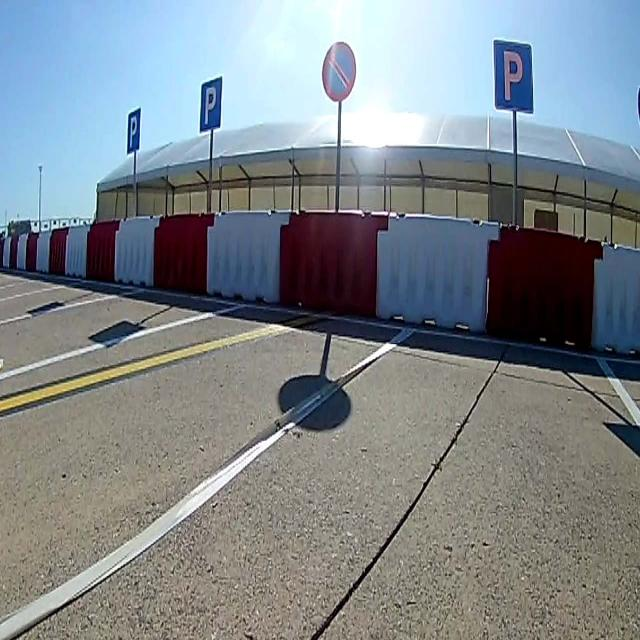park: (494, 36, 534, 112), (200, 76, 222, 132), (127, 108, 141, 154)
parkyasak: (322, 44, 356, 98)
